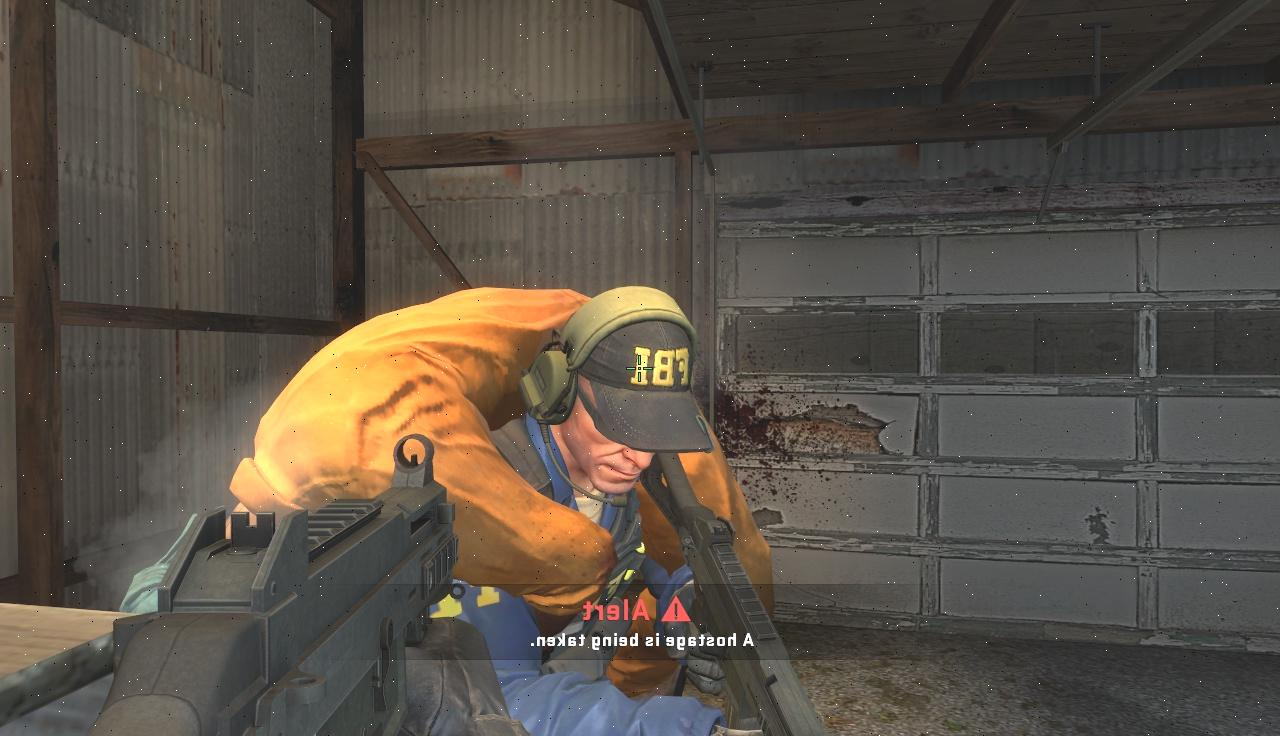ct: (459, 284, 769, 735)
cthead: (531, 290, 704, 493)
rifle: (12, 431, 459, 736)
